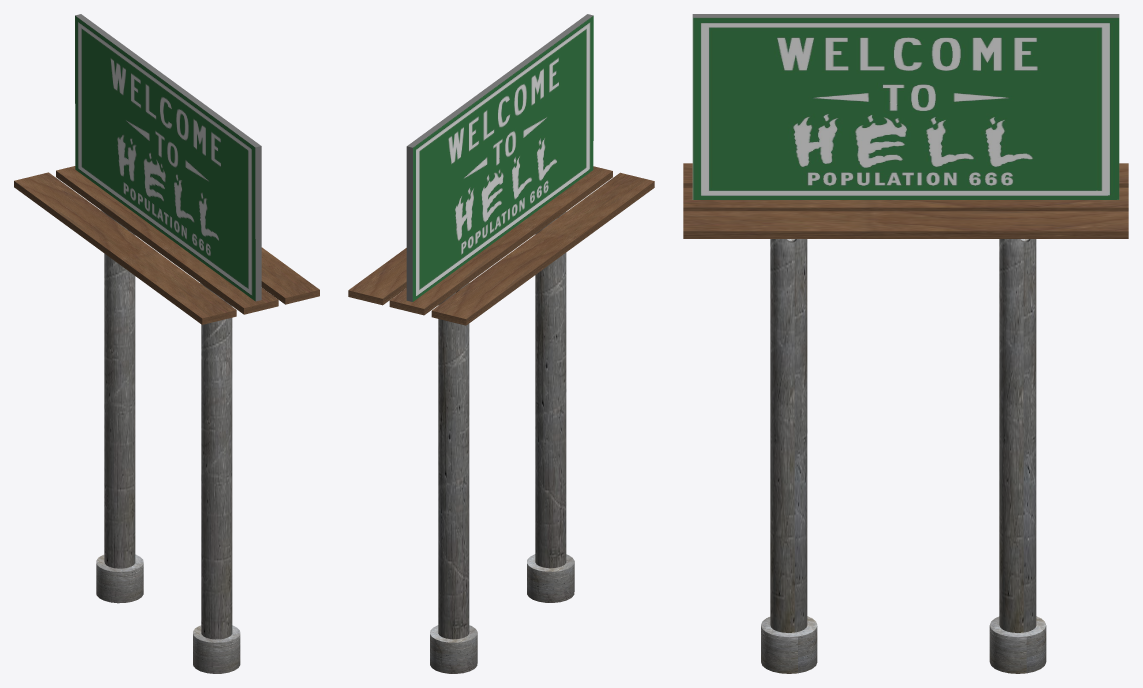
Rendered from BillBob.obj.
The picture shows the model from 3 angles, left to right: view 1: azimuth 30°, elevation 25°; view 2: azimuth 150°, elevation 25°; view 3: azimuth 270°, elevation 25°; orthographic projection. The views are drawn at different scales.
Visible parts, largest first — view 1: pCylinder45; view 2: pCylinder45; view 3: pCylinder45.
Boxes of the visible parts, x1,y1,x2,y2 form: pCylinder45: [14, 14, 319, 673]; pCylinder45: [348, 14, 654, 673]; pCylinder45: [683, 14, 1128, 673].
Size of the model in its own units: 0.8366 by 3.71 by 2.32.
